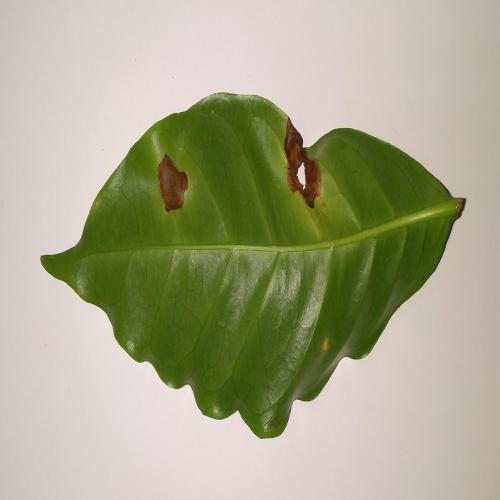miner: (284, 117, 321, 208)
